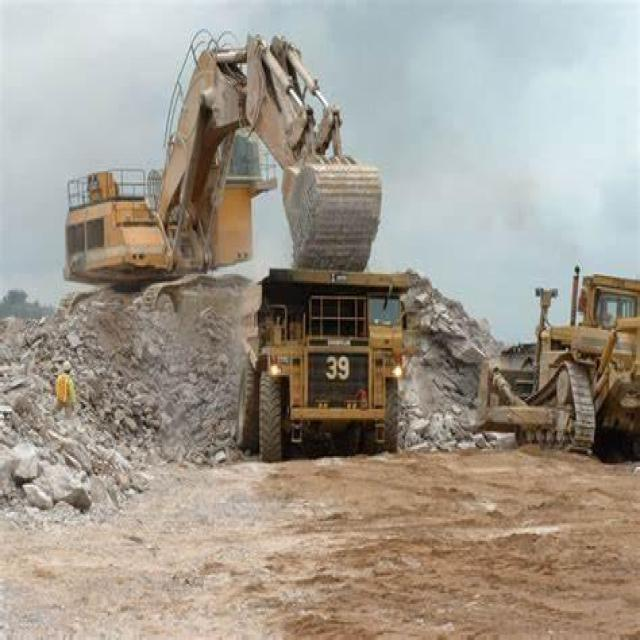buldozerpayloadergrader: (476, 240, 638, 467)
dump_truck: (246, 265, 418, 467)
excavator: (63, 29, 412, 339)
